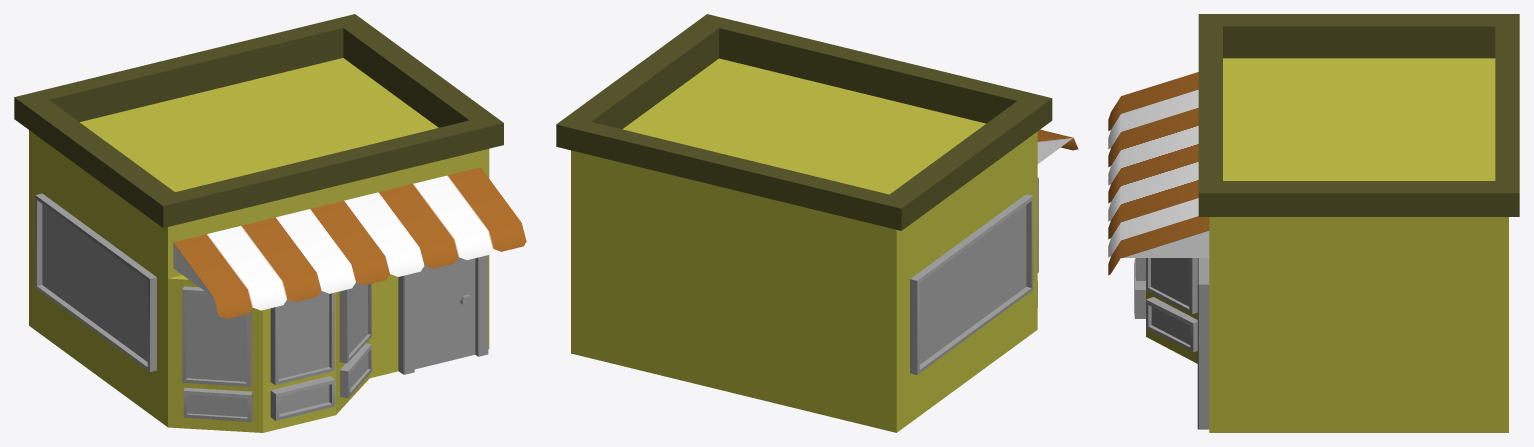
File: House2.fbx
The picture shows the model from 3 angles, left to right: view 1: azimuth 30°, elevation 25°; view 2: azimuth 150°, elevation 25°; view 3: azimuth 270°, elevation 25°; orthographic projection. The views are drawn at different scales.
Visible parts, largest first — view 1: pCube2, pPlane1, pPlane8, door:dooorrr, pPlane4, polySurface6, pPlane2, door:Pintu, polySurface1, polySurface5, polySurface2, pPlane7 (+5 smaller); view 2: pCube2, pPlane8, polySurface6, pPlane1; view 3: pCube2, pPlane1, door:Pintu, pPlane3, polySurface3, polySurface4, pPlane6, polySurface2.
Boxes of the visible parts, <box> form: pCube2: <box>14,14,503,432</box>; pPlane1: <box>173,167,526,318</box>; pPlane8: <box>42,204,147,361</box>; door:dooorrr: <box>414,257,475,369</box>; pPlane4: <box>186,293,246,381</box>; polySurface6: <box>35,193,156,371</box>; pPlane2: <box>279,291,329,378</box>; door:Pintu: <box>398,255,488,374</box>; polySurface1: <box>270,292,334,385</box>; polySurface5: <box>182,286,251,386</box>; polySurface2: <box>270,376,335,420</box>; pPlane7: <box>187,394,247,416</box>; pCube2: <box>556,14,1052,432</box>; pPlane8: <box>919,205,1026,364</box>; polySurface6: <box>910,194,1033,374</box>; pPlane1: <box>1037,129,1078,163</box>; pCube2: <box>1146,14,1519,432</box>; pPlane1: <box>1108,72,1209,275</box>; door:Pintu: <box>1197,258,1209,429</box>; pPlane3: <box>1151,258,1189,306</box>; polySurface3: <box>1146,297,1197,352</box>; polySurface4: <box>1146,258,1197,314</box>; pPlane6: <box>1151,307,1190,344</box>; polySurface2: <box>1134,258,1145,318</box>.
Bounding box in the file's own units: 6.26 × 3.99 × 6.08.
